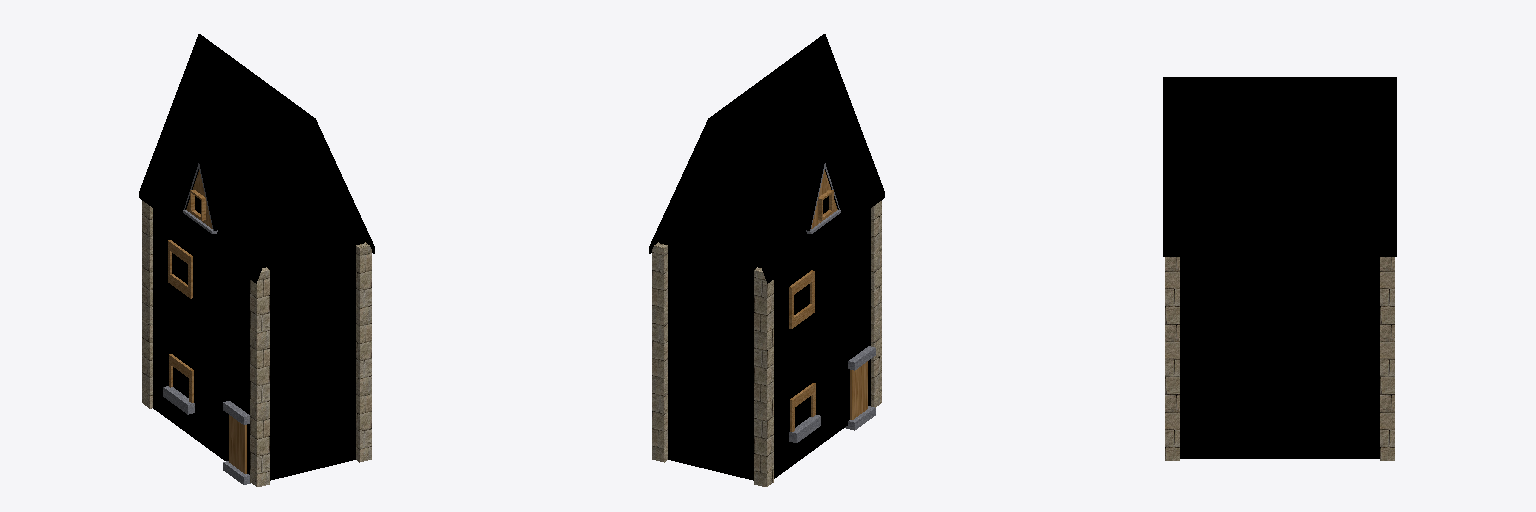
3 renders of one model, left to right at view 1: azimuth 30°, elevation 25°; view 2: azimuth 150°, elevation 25°; view 3: azimuth 270°, elevation 25°, orthographic.
Visible parts, largest first — view 1: pCube1, pCube6, pCube2, pCube3, pCube5, pCube7, pCube15, group1pCube18, pCube13; view 2: pCube1, pCube6, pCube5, pCube4, pCube2, pCube7, pCube15, group1pCube18, pCube13; view 3: pCube6, pCube1, pCube3, pCube4.
Part boxes in pixels (x1,y1,x2,y2): pCube1: (153,136,364,480); pCube6: (139,34,374,283); pCube2: (250,267,269,486); pCube3: (356,242,371,462); pCube5: (142,201,152,408); pCube7: (184,155,226,233); pCube15: (168,240,192,298); group1pCube18: (229,415,246,473); pCube13: (169,354,193,402); pCube1: (659,136,870,480); pCube6: (649,34,884,283); pCube5: (754,267,773,486); pCube4: (652,242,667,462); pCube2: (871,201,881,407); pCube7: (797,155,839,233); pCube15: (789,270,814,328); group1pCube18: (850,361,867,419); pCube13: (790,383,815,431); pCube6: (1163,77,1396,256); pCube1: (1180,257,1379,458); pCube3: (1165,257,1179,460); pCube4: (1380,257,1394,460).
Size of the model in its own units: 5.81 by 16.43 by 9.69.
Materials: 6 (3 with a texture image).